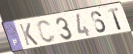3: (55, 16, 75, 41)
4: (76, 13, 91, 39)
6: (91, 11, 108, 35)
C: (36, 19, 57, 44)
K: (18, 22, 40, 47)
T: (106, 7, 123, 31)
